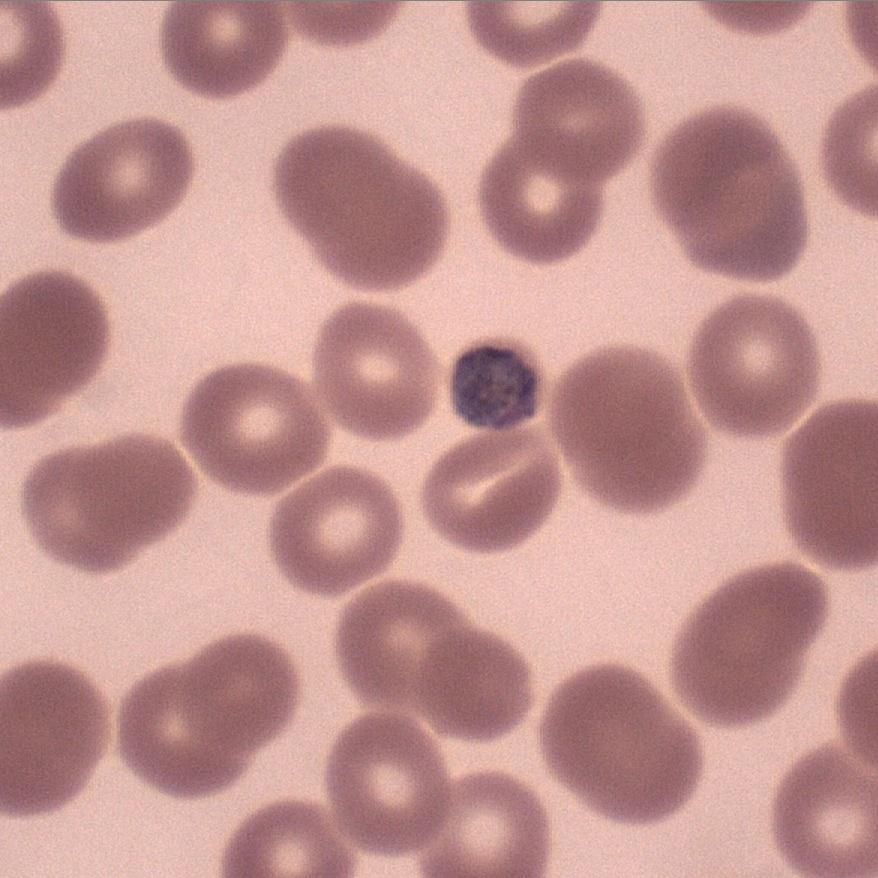Infected: (445, 336, 548, 435)
Uninfected: (667, 556, 820, 726), (545, 666, 692, 826), (260, 466, 405, 606), (180, 356, 325, 495), (312, 306, 452, 445), (653, 101, 788, 244), (660, 163, 822, 281), (320, 713, 445, 862), (110, 668, 248, 800), (390, 766, 552, 878), (780, 396, 878, 581), (695, 298, 820, 440), (547, 338, 692, 460), (55, 118, 192, 246), (335, 581, 477, 701), (425, 431, 557, 556), (0, 661, 102, 821), (470, 141, 600, 266), (270, 121, 402, 243), (325, 161, 453, 286), (510, 56, 638, 179), (20, 438, 147, 560), (765, 741, 878, 878), (565, 411, 708, 515), (0, 271, 98, 416), (418, 626, 535, 738), (182, 628, 300, 736), (77, 436, 197, 540), (225, 796, 358, 878), (162, 0, 275, 94)
